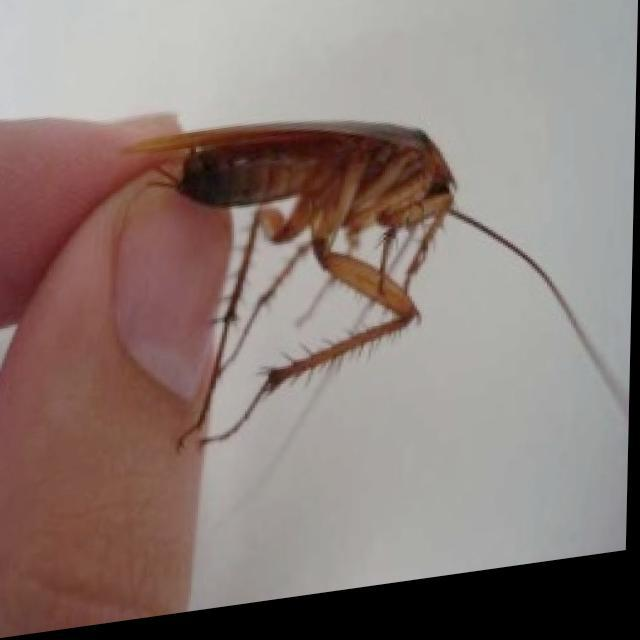cockroach: (118, 115, 623, 456)
